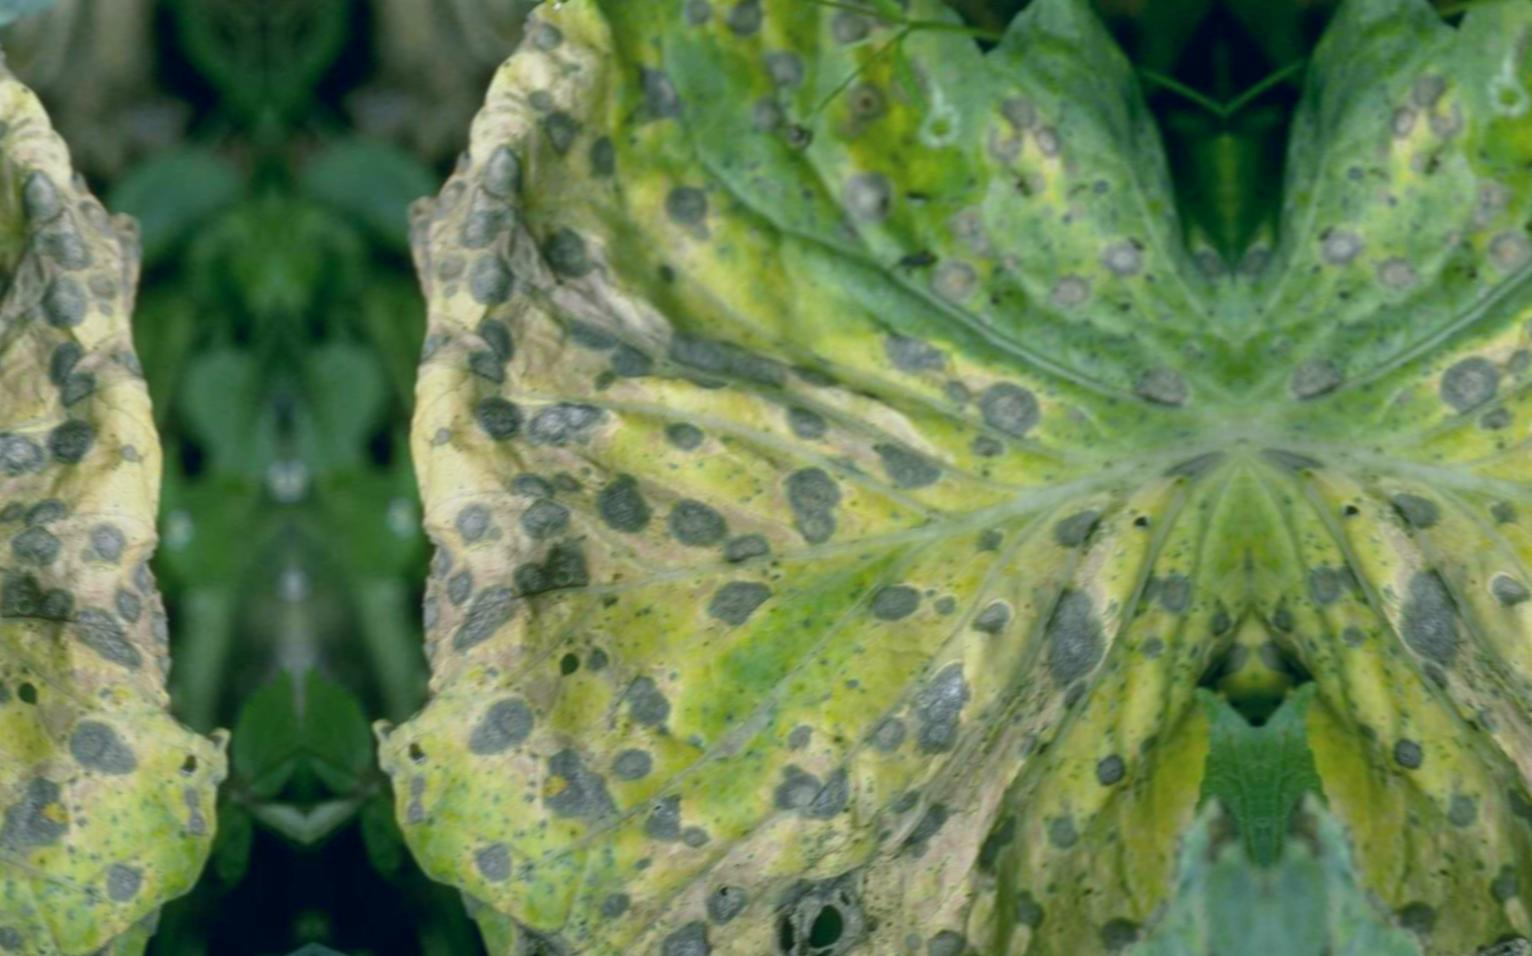Tomato leaf bacterial spot: (343, 0, 1276, 956)
